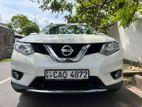car: (11, 22, 125, 98)
